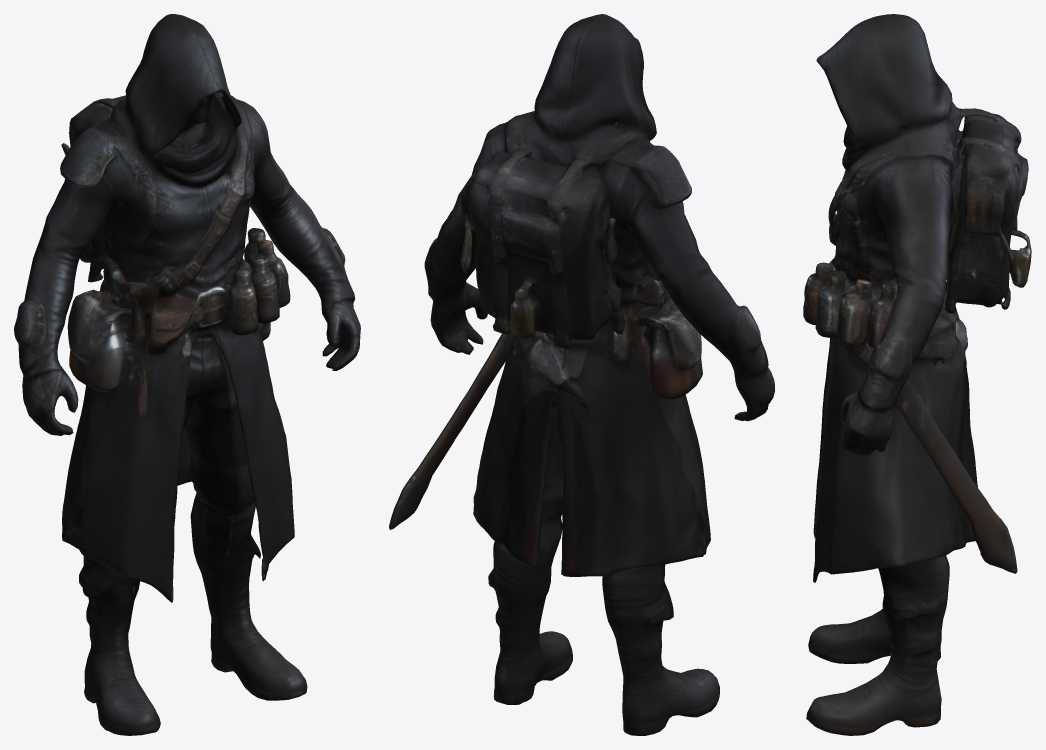
File: free_magical_assassin.glb
The picture shows the model from 3 angles, left to right: view 1: azimuth 30°, elevation 25°; view 2: azimuth 150°, elevation 25°; view 3: azimuth 270°, elevation 25°; orthographic projection.
Visible parts, largest first — view 1: Object_4; view 2: Object_4; view 3: Object_4.
Boxes of the visible parts, box(x1,y1,x2,y2) form: Object_4: box(14, 14, 360, 735); Object_4: box(389, 14, 774, 735); Object_4: box(803, 14, 1031, 735).
Bounding box in the file's own units: 1.02 × 2 × 0.6142.
1 material, 1 textured.
